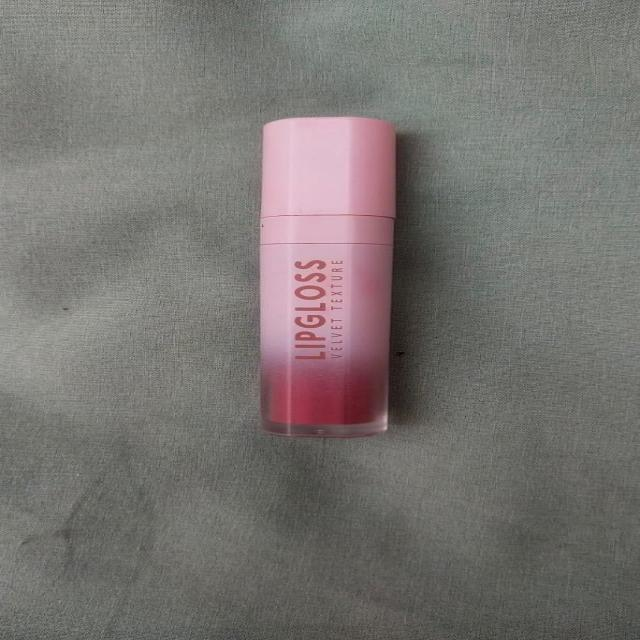lip gloss: (226, 102, 458, 449)
